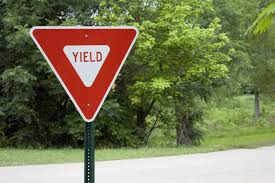yield: (27, 24, 139, 125)
